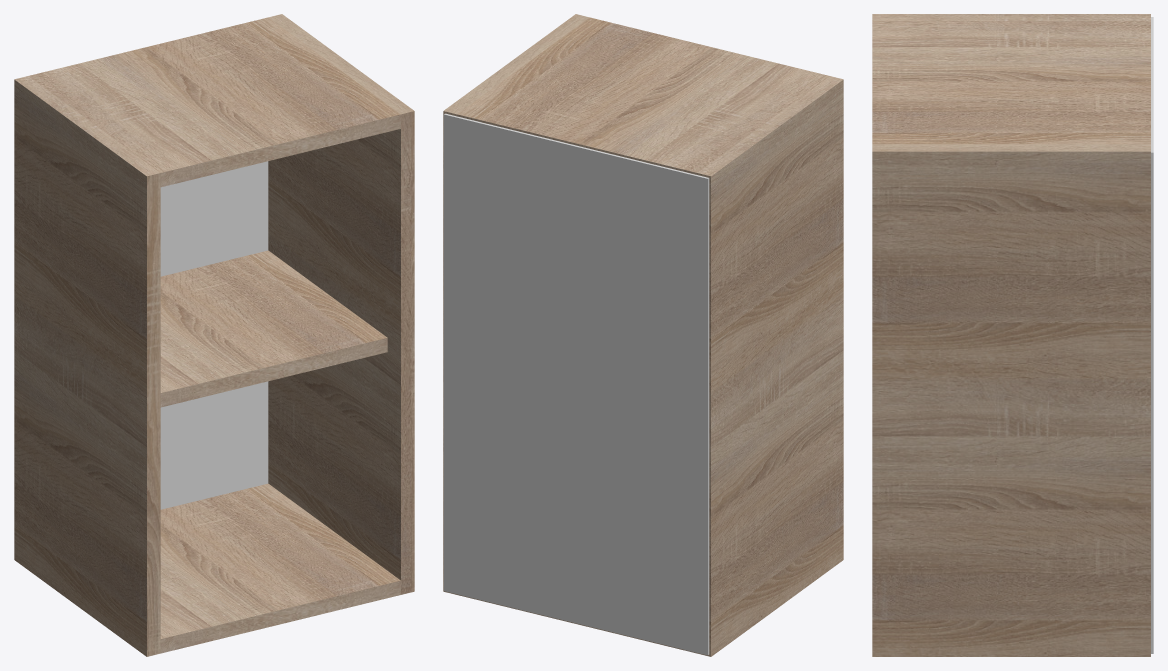
The model's file is s_fny_35.glb.
3 renders of one model, left to right at view 1: azimuth 30°, elevation 25°; view 2: azimuth 150°, elevation 25°; view 3: azimuth 270°, elevation 25°, orthographic. The views are drawn at different scales.
Parts seen in each view (by area): view 1: s_fny_35_korpusz; view 2: s_fny_35_korpusz; view 3: s_fny_35_korpusz.
Part boxes in pixels (x1=…): s_fny_35_korpusz: x1=14, y1=14, x2=414, y2=656; s_fny_35_korpusz: x1=443, y1=14, x2=843, y2=656; s_fny_35_korpusz: x1=872, y1=14, x2=1153, y2=656.
Bounding box in the file's own units: 0.35 × 0.6 × 0.303.
Materials: 2 (1 with a texture image).
